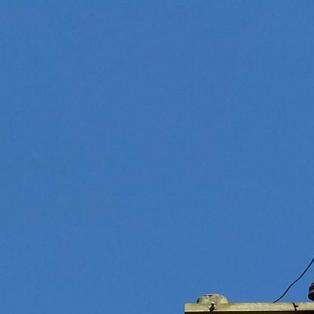Poste: (174, 282, 250, 314)
